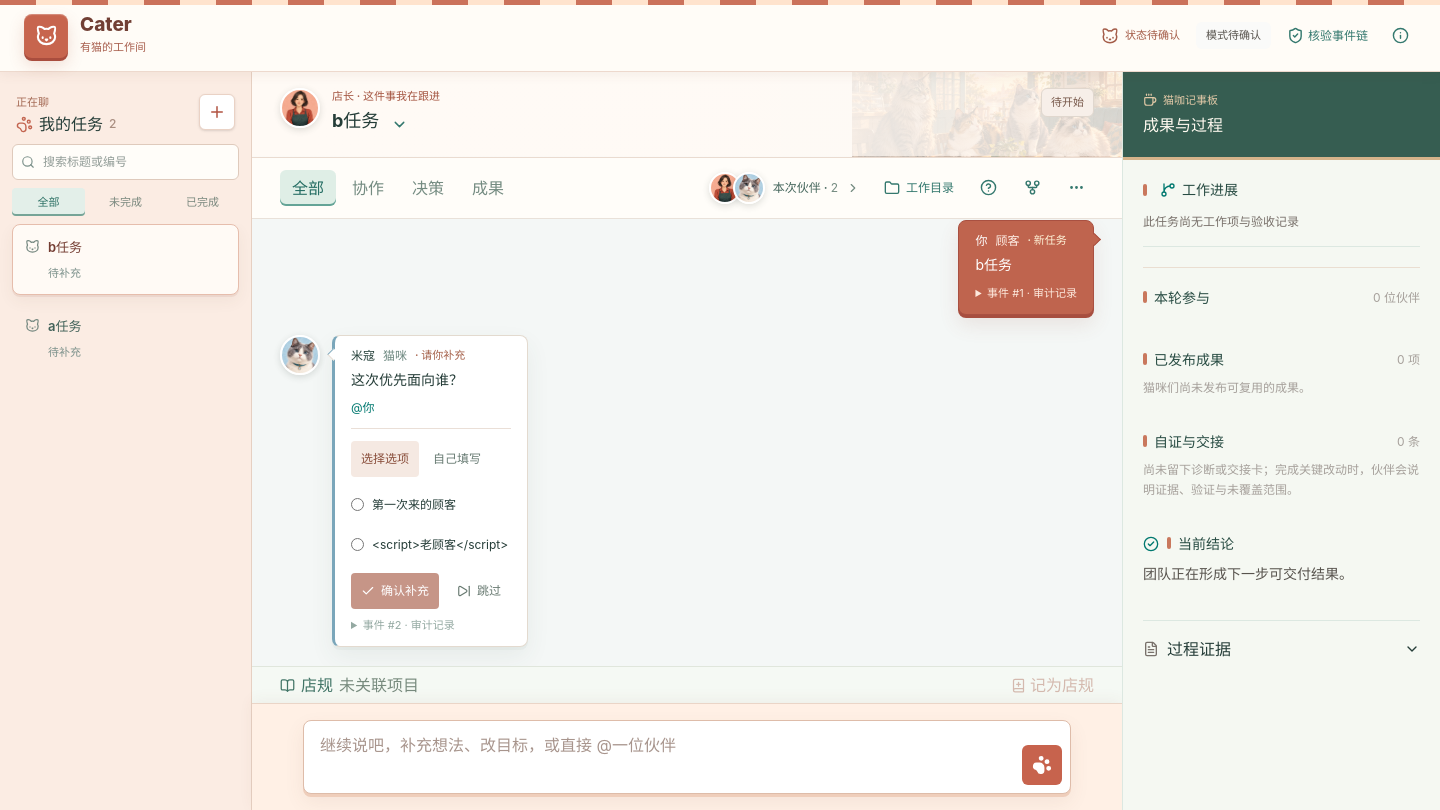
Test case: 跳过不附带选择或自填，失败重试使用相同 ID，后端 answered skip 显示已跳过
(page scrolled)
Click the radio button labelled "第一次来的顾客" at [358, 504], box left=351, top=498, right=364, bottom=511
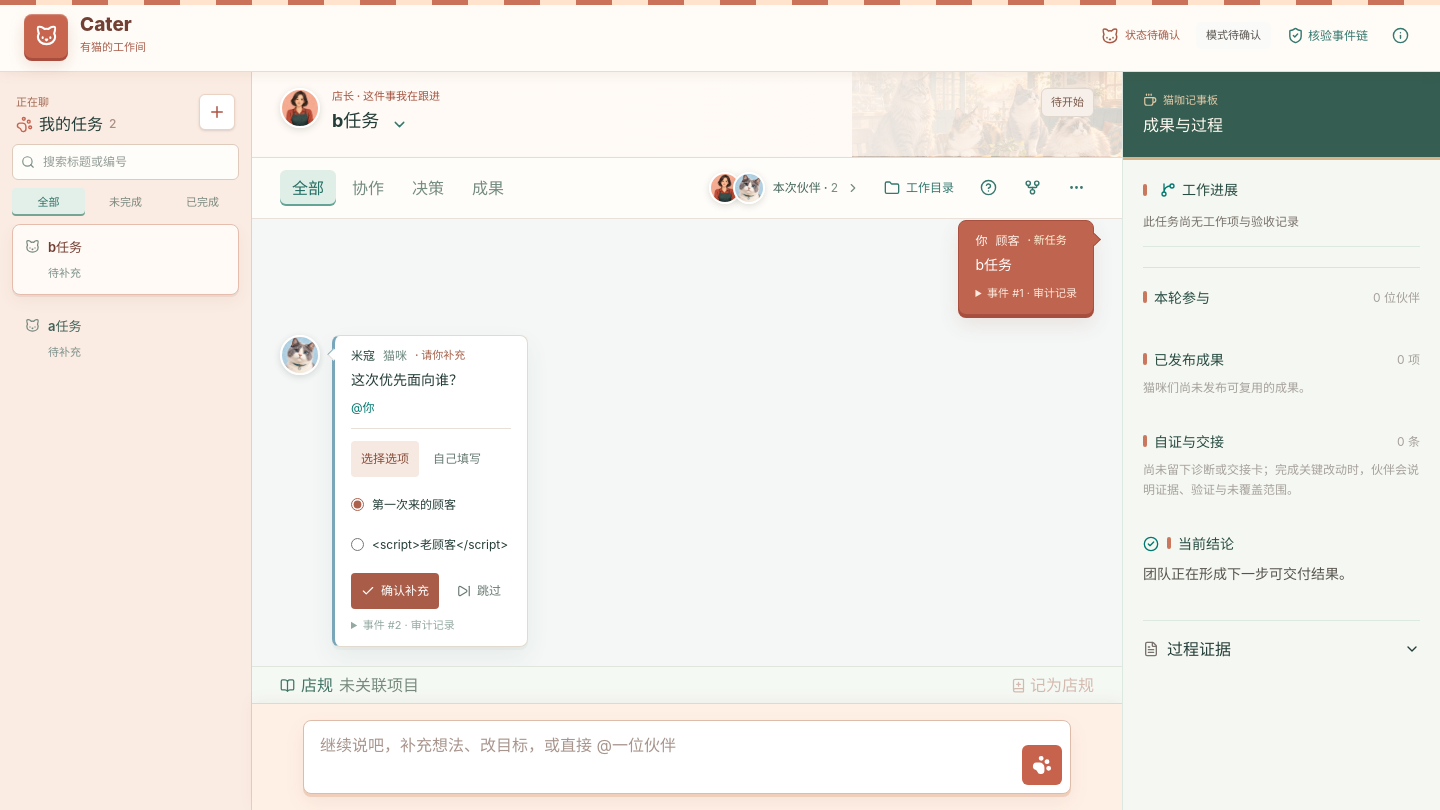
Click the button "自己填写" at [457, 459], box left=423, top=441, right=491, bottom=477
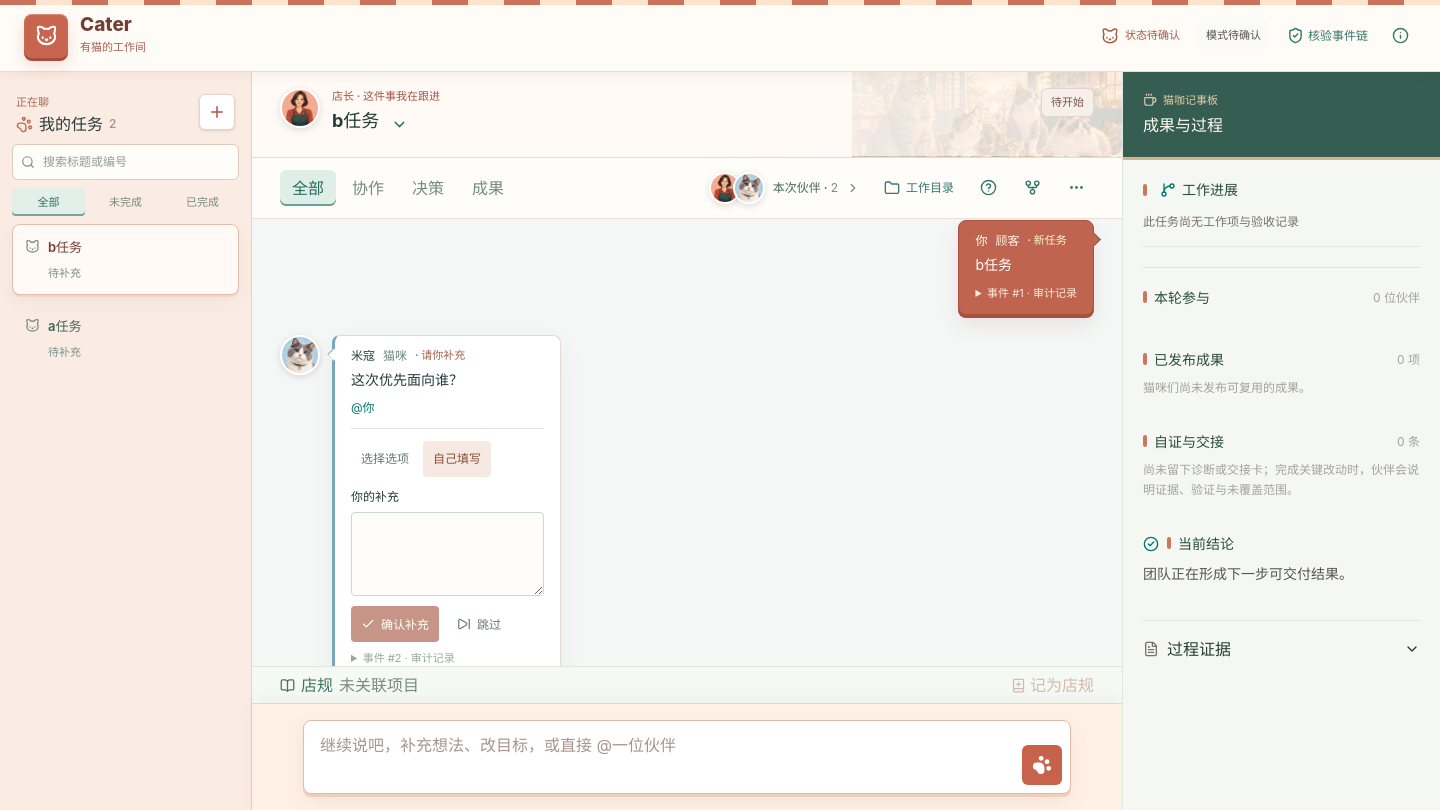
Type "还没确认" into the text box labelled "你的补充" at [448, 554], box left=351, top=512, right=544, bottom=596
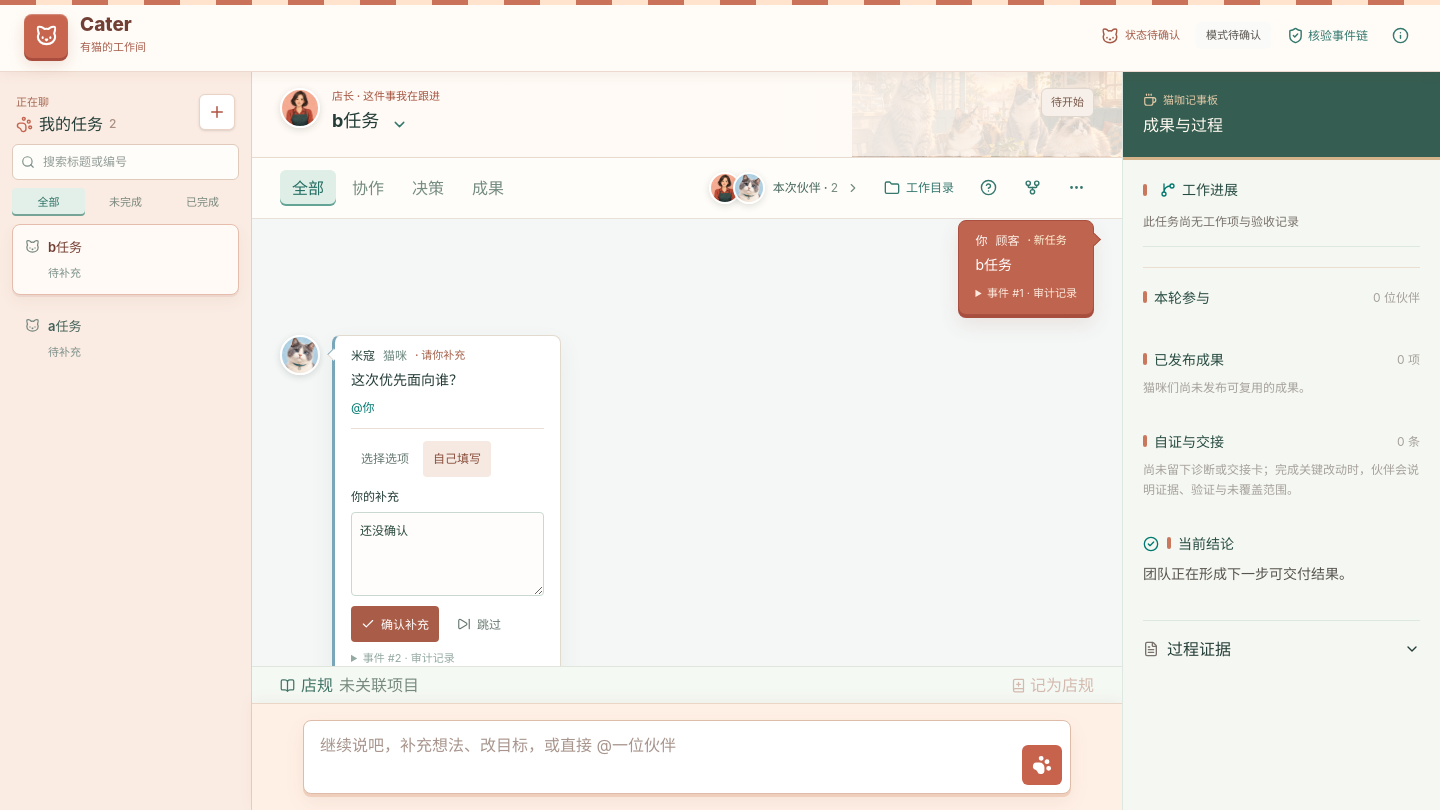
Click the button "跳过" at [479, 624], box left=447, top=606, right=511, bottom=642
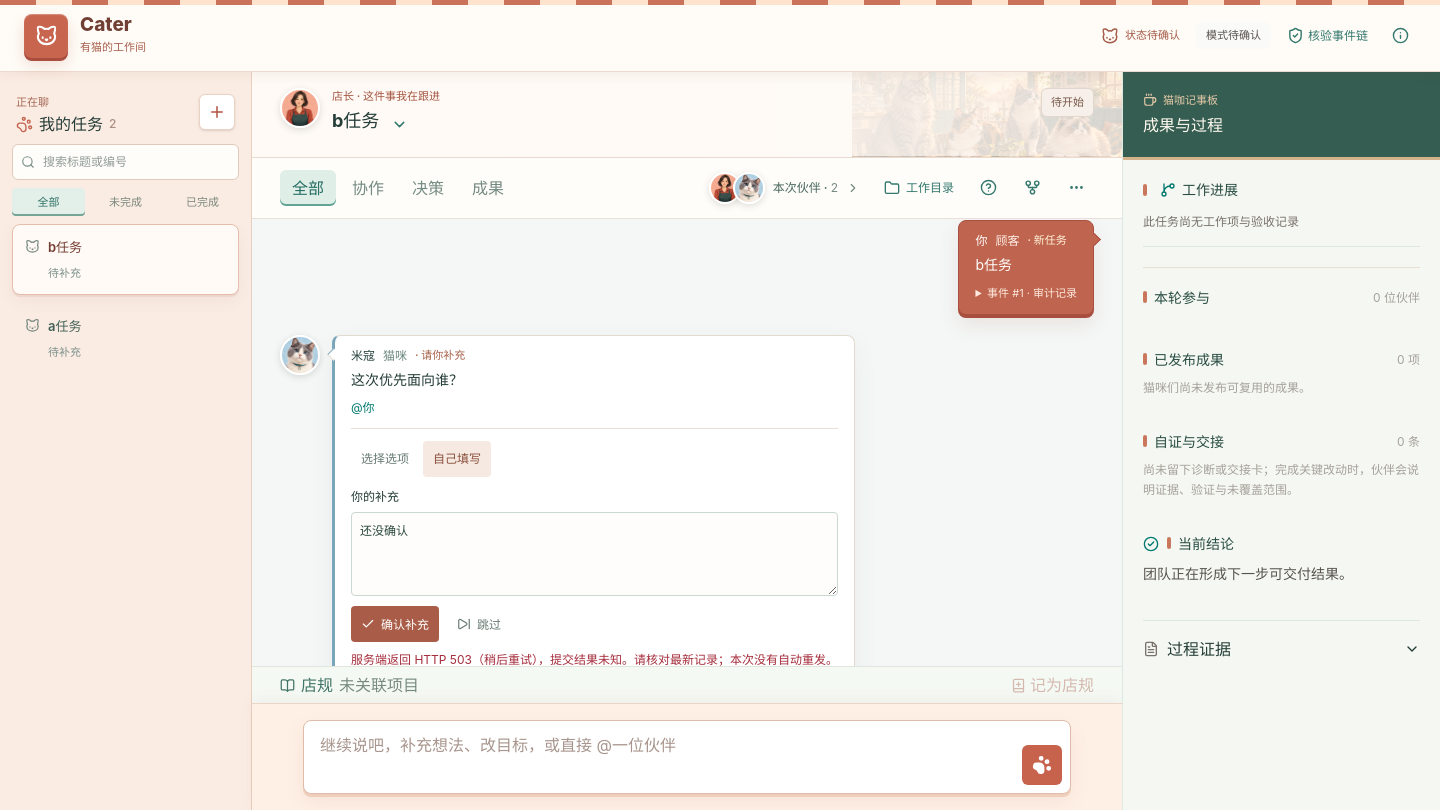
Click the button "跳过" at [479, 624], box left=447, top=606, right=511, bottom=642
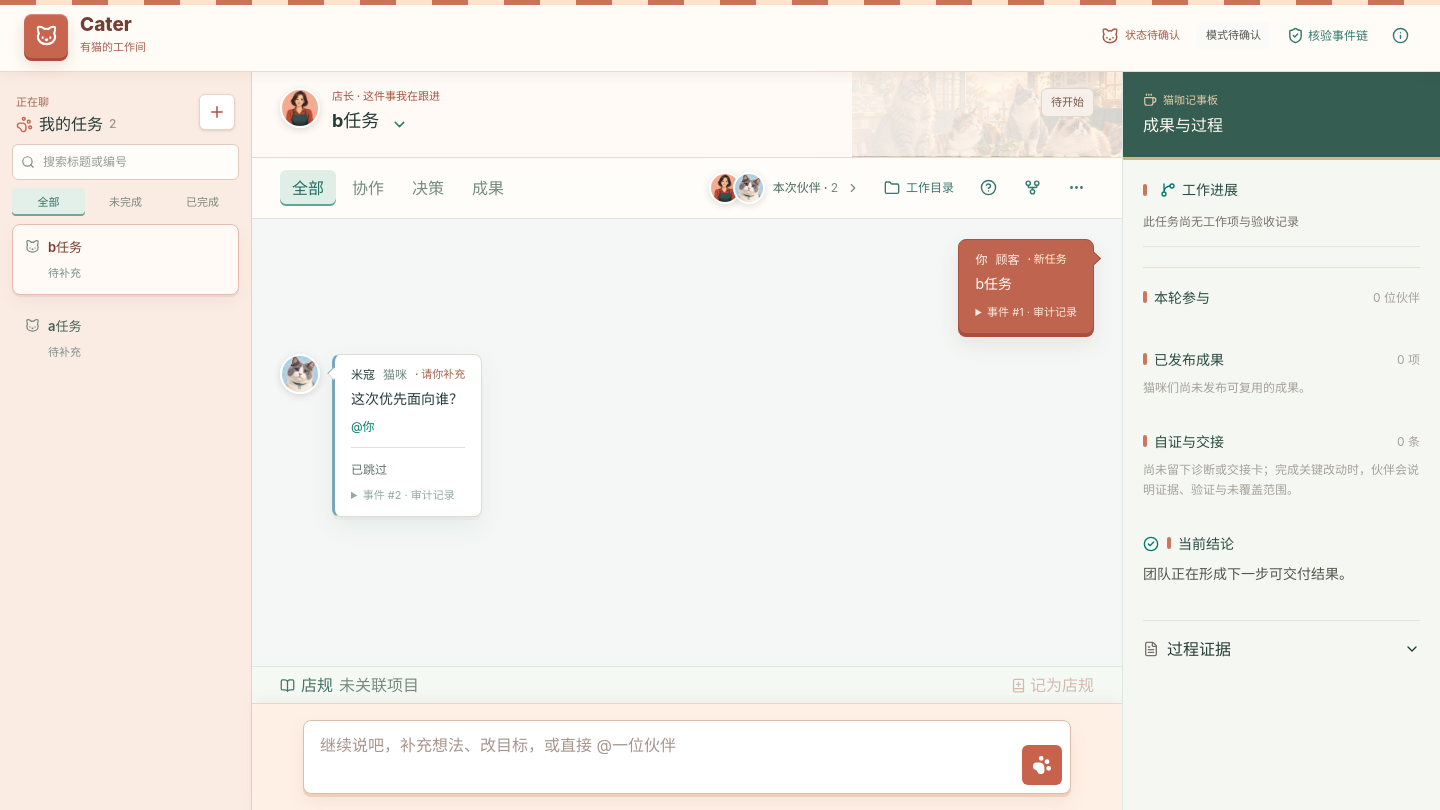
Expected: the text "已跳过" is shown, left=351, top=462, right=387, bottom=477
Expected: the form is gone
